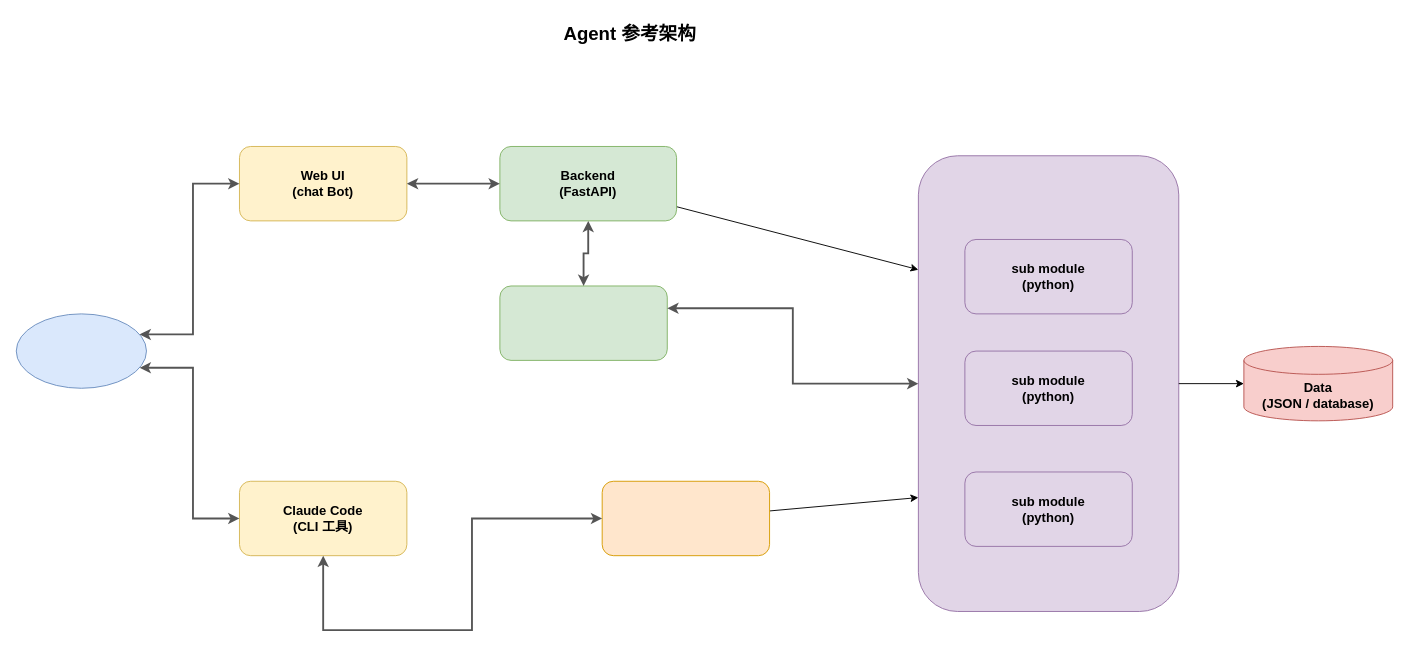
Image size: 1409x655. Some labels were removed from this diagram. The box of each missing label's shape, as (x1, y1, x2, y2) in pixels:
Agent (Claude Agent SDK / Anthropic SDK): (499, 285, 667, 360)
CLI (click): (601, 480, 770, 556)
👤 User: (15, 313, 146, 388)
